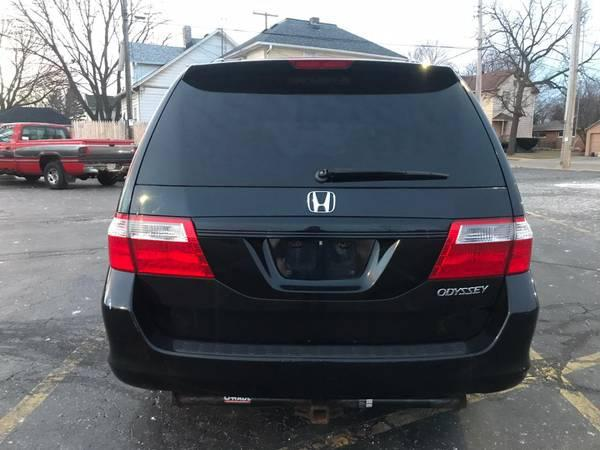Left_Taillight: (105, 211, 211, 275)
Rear_Bumper: (103, 265, 538, 402)
Rear_Windshield: (130, 60, 517, 186)
Right_Taillight: (429, 217, 535, 278)
Tailgate: (115, 181, 523, 339)
